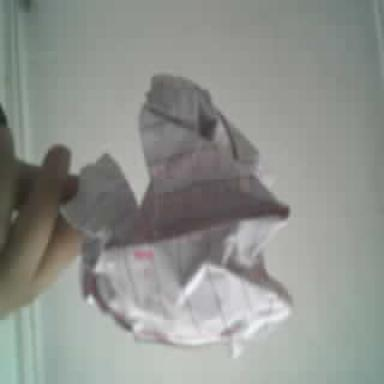paper: (62, 77, 289, 354)
